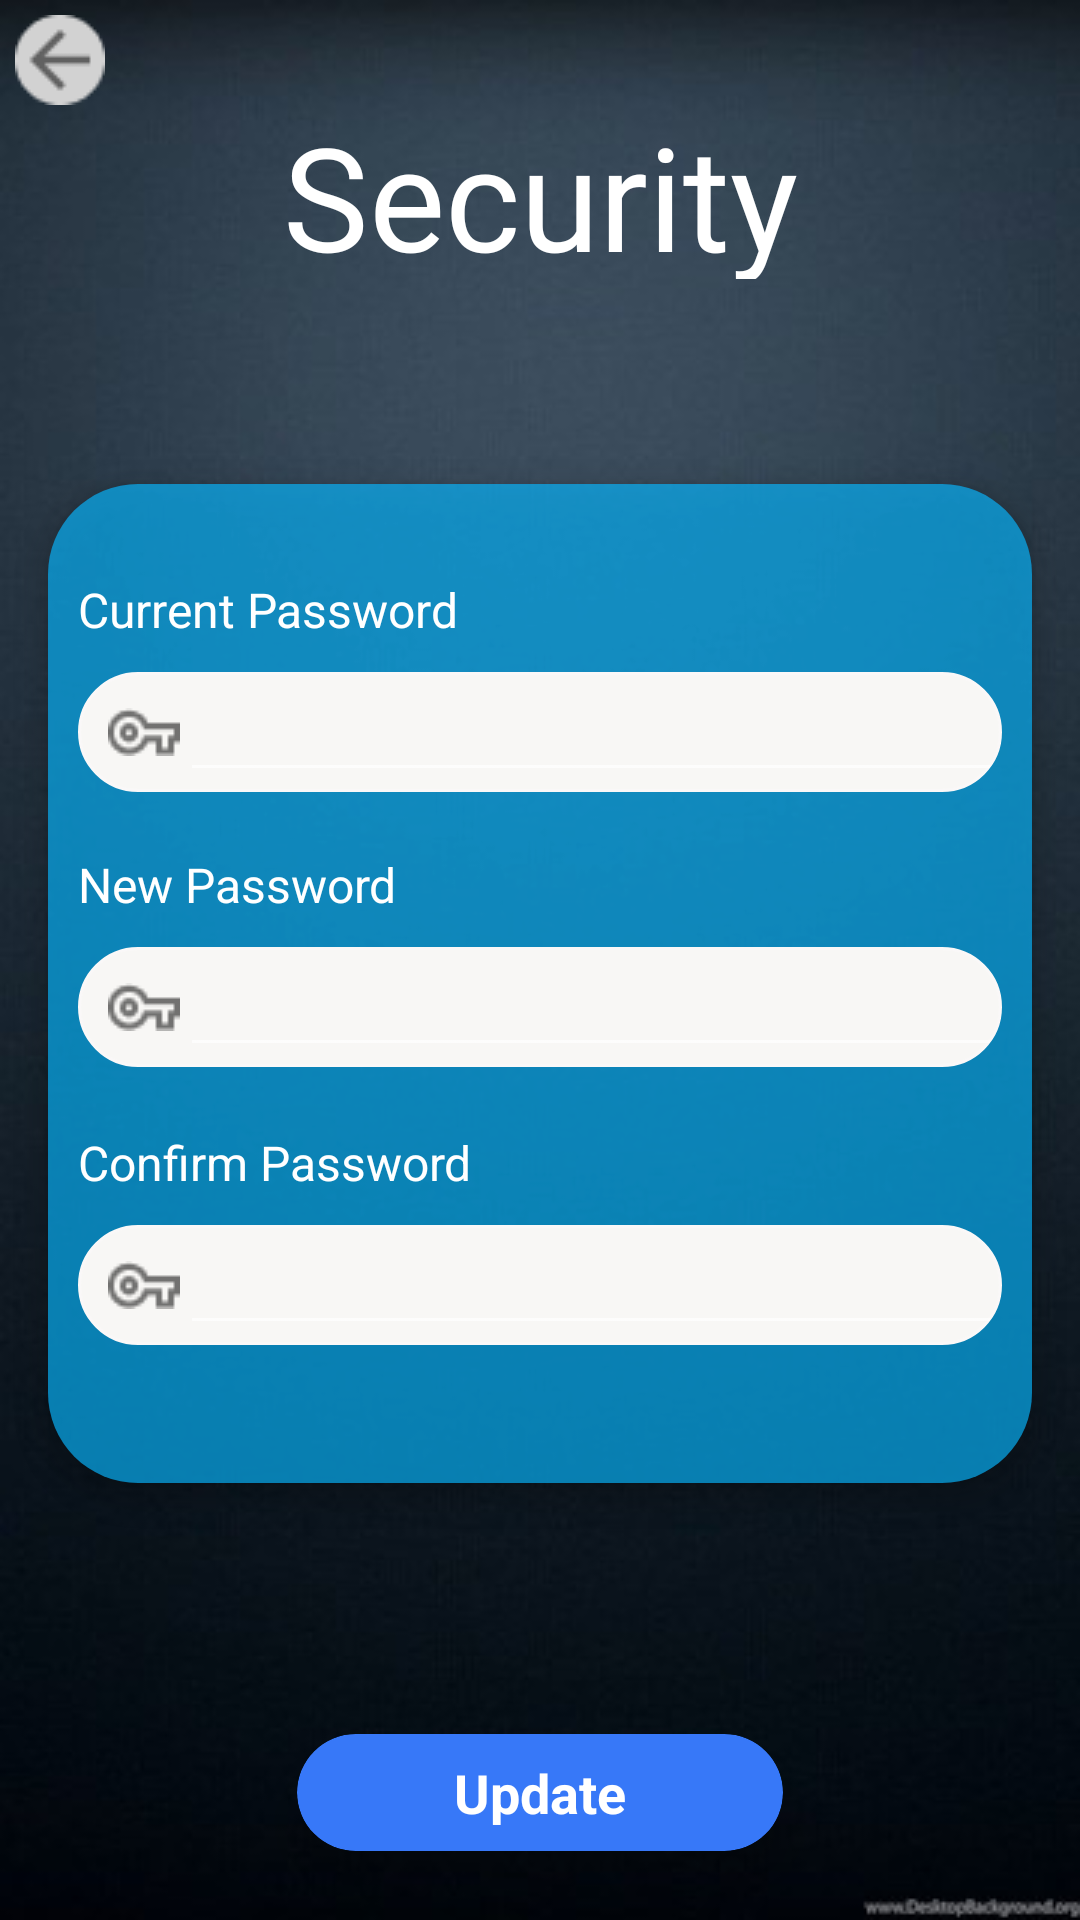

Icon click points for this 1080 x 1920 phone screenshot, format (x,y):
back: (60,60)
vpn key: (144,733), (144,1008), (144,1286)
